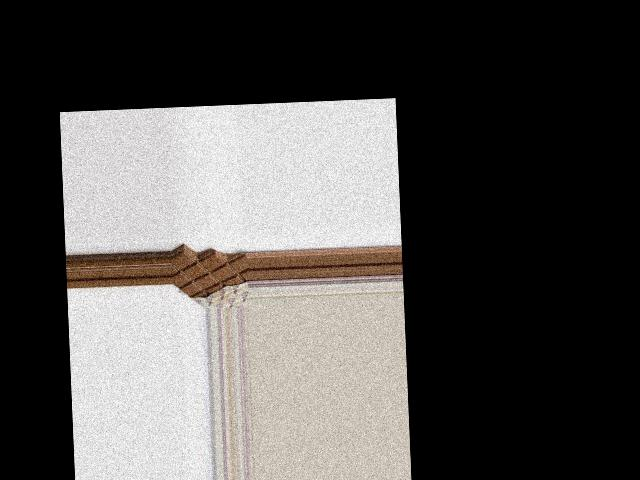chocolate: (172, 247, 249, 309)
